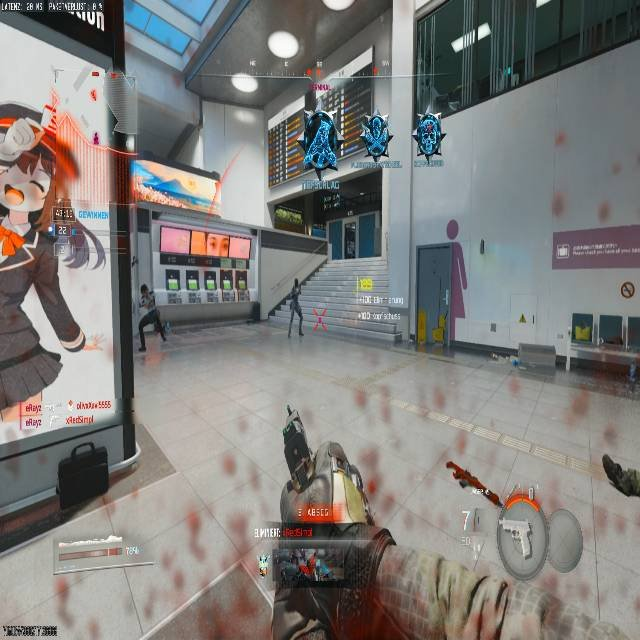head: (0, 114, 66, 231), (140, 284, 149, 296)
player: (0, 109, 98, 414), (138, 284, 167, 346), (286, 284, 305, 337)
